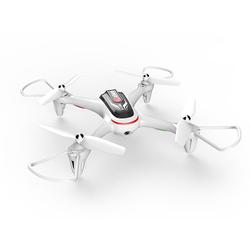drone: (18, 64, 243, 185)
